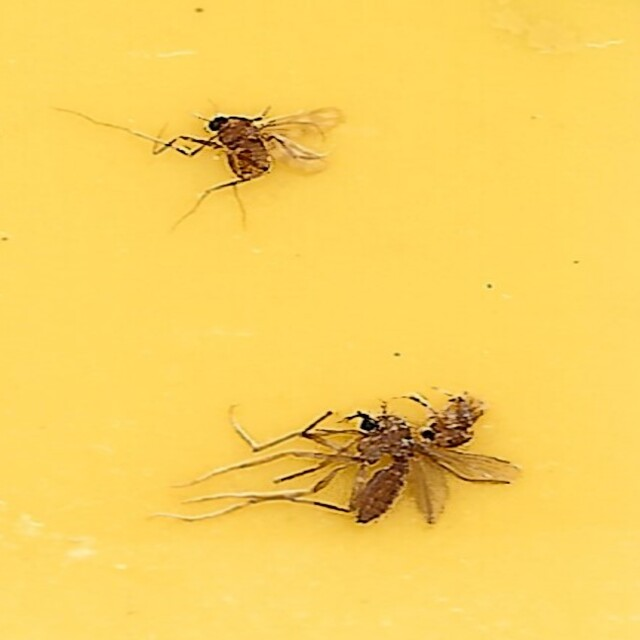Nematocera: (179, 404, 447, 539), (148, 101, 354, 203), (412, 383, 492, 466)
